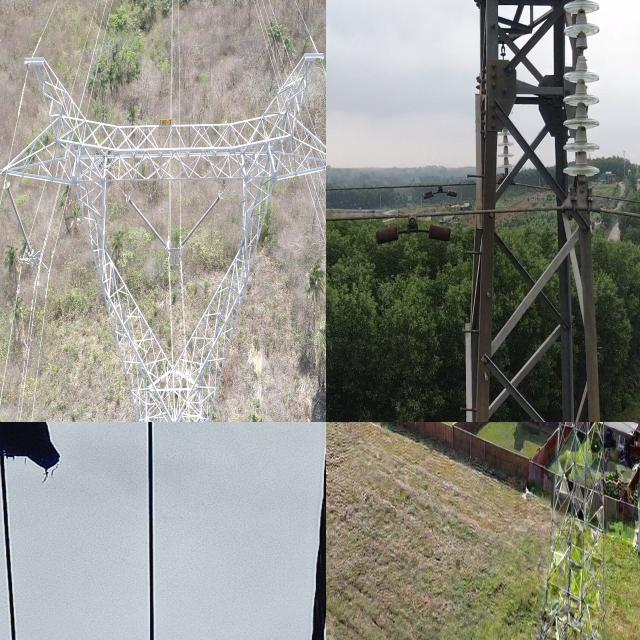杆塔: (0, 42, 326, 422), (462, 0, 626, 422), (534, 422, 615, 640)
植被遮挡: (0, 422, 70, 481)
正常电缆: (326, 204, 458, 228)
正常绝缘子: (557, 0, 603, 208), (177, 188, 225, 251), (124, 191, 170, 253), (3, 179, 36, 262)
绝缘子破损: (574, 40, 589, 66)
